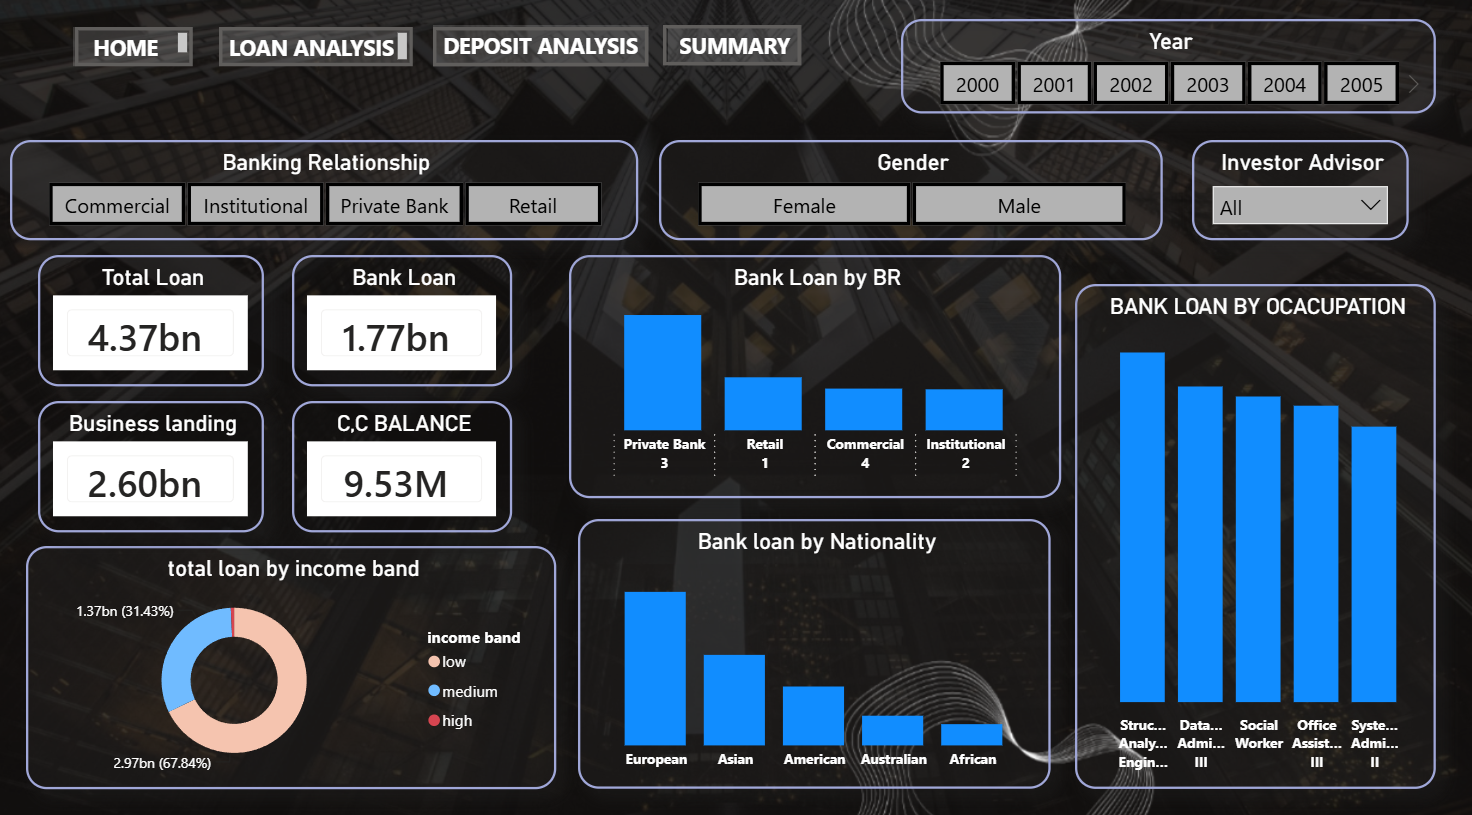

Layout of this report page (visuals, bound fields, positions):
{"tool":"powerbi","page":{"name":"Loan Analysis","canvas":[1280,720],"ordinal":1},"visuals":[{"type":"clusteredColumnChart","title":"BANK LOAN BY OCACUPATION ","fields":{"Category":["Banking.Occupation"],"Y":["Sum(Banking.Bank Deposits)"]},"box":[934.7,251.9,313.2,437.7],"z":0},{"type":"clusteredColumnChart","title":"Bank loan by Nationality","fields":{"Y":["Sum(Banking.Bank Deposits)"],"Category":["Banking.Nationality"]},"box":[503.8,455.2,410.5,234.4],"z":1000},{"type":"clusteredColumnChart","title":"Bank Loan by BR","fields":{"Category":["banking-realtionships (1).BRId","banking-realtionships (1).Banking Relationship"],"Y":["Sum(Banking.Bank Deposits)"]},"box":[496,226.6,427,211.1],"z":2000},{"type":"slicer","title":"Gender ","fields":{"Values":["Banking.GenderId"]},"box":[573.9,126.4,436.7,86.6],"z":3000},{"type":"slicer","title":"Investor Advisor","fields":{"Values":["investment-advisiors.Investment Advisor"]},"box":[1036.8,126.4,187.7,86.6],"z":4000},{"type":"slicer","title":"Year ","fields":{"Values":["Banking.Joined Bank.Variation.Date Hierarchy.Year"]},"box":[784,21.4,464,81.7],"z":5000},{"type":"slicer","title":"Banking Relationship","fields":{"Values":["banking-realtionships (1).Banking Relationship"]},"box":[11.7,126.4,544.7,86.6],"z":6000},{"type":"donutChart","fields":{"Category":["Banking.income band"],"Y":["Banking.total loan"]},"box":[25.3,478.5,460.1,211.1],"z":7000},{"type":"cardVisual","title":"Total Loan","fields":{"Data":["Banking.total loan"]},"box":[36,226.6,195.5,113.8],"z":8000},{"type":"cardVisual","title":"Bank Loan","fields":{"Data":["Sum(Banking.Bank Loans)"]},"box":[255.8,226.6,190.6,113.8],"z":9000},{"type":"cardVisual","title":"Business landing ","fields":{"Data":["Sum(Banking.Business Lending)"]},"box":[36,353.1,195.5,113.8],"z":10000},{"type":"cardVisual","title":"C,C BALANCE ","fields":{"Data":["Sum(Banking.Credit Card Balance)"]},"box":[255.8,353.1,190.6,113.8],"z":11000},{"type":"textbox","box":[66.1,28.2,104.1,34],"z":12000},{"type":"textbox","box":[192.6,28.2,168.3,34],"z":13000},{"type":"textbox","box":[378.4,27.2,186.7,36],"z":14000},{"type":"textbox","box":[581.6,27.2,115.7,35],"z":15000},{"type":"actionButton","box":[68.1,28.2,102.1,34],"z":16000},{"type":"actionButton","box":[192.6,28.2,168.3,34],"z":17000},{"type":"actionButton","box":[378.4,28.2,186.7,34],"z":18000},{"type":"actionButton","box":[577.8,27.2,119.6,35],"z":19000}]}

Visuals, with their boxes in screenshot pixels (x1, y1, x2, y2), scaled from the page's 1280x720 canvas onto the 1472x815 screenshot:
"BANK LOAN BY OCACUPATION " clusteredColumnChart: bbox=(1075, 285, 1435, 781)
"Bank loan by Nationality" clusteredColumnChart: bbox=(579, 515, 1051, 781)
"Bank Loan by BR" clusteredColumnChart: bbox=(570, 256, 1061, 495)
"Gender " slicer: bbox=(660, 143, 1162, 241)
"Investor Advisor" slicer: bbox=(1192, 143, 1408, 241)
"Year " slicer: bbox=(902, 24, 1435, 117)
"Banking Relationship" slicer: bbox=(13, 143, 640, 241)
donutChart - Banking.income band x Banking.total loan: bbox=(29, 542, 558, 781)
"Total Loan" cardVisual: bbox=(41, 256, 266, 385)
"Bank Loan" cardVisual: bbox=(294, 256, 513, 385)
"Business landing " cardVisual: bbox=(41, 400, 266, 529)
"C,C BALANCE " cardVisual: bbox=(294, 400, 513, 529)
textbox: bbox=(76, 32, 196, 70)
textbox: bbox=(221, 32, 415, 70)
textbox: bbox=(435, 31, 650, 72)
textbox: bbox=(669, 31, 802, 70)
actionButton: bbox=(78, 32, 196, 70)
actionButton: bbox=(221, 32, 415, 70)
actionButton: bbox=(435, 32, 650, 70)
actionButton: bbox=(664, 31, 802, 70)
